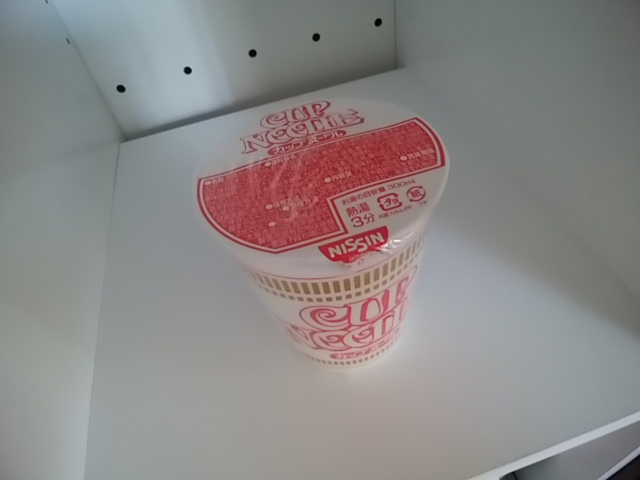cup-ramen: (193, 91, 457, 374)
